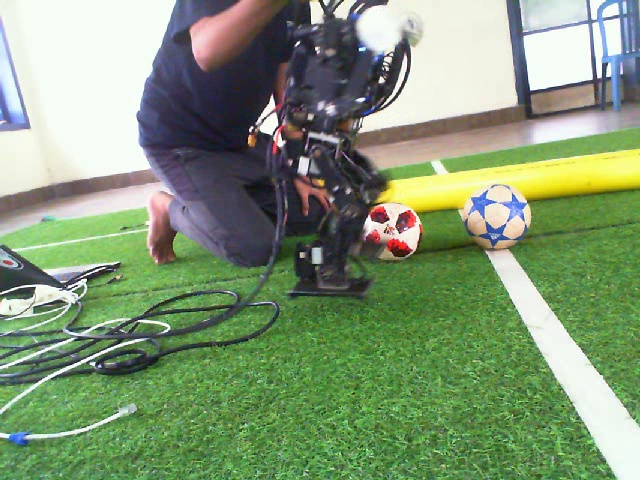ball: (461, 180, 534, 252), (361, 199, 425, 265)
